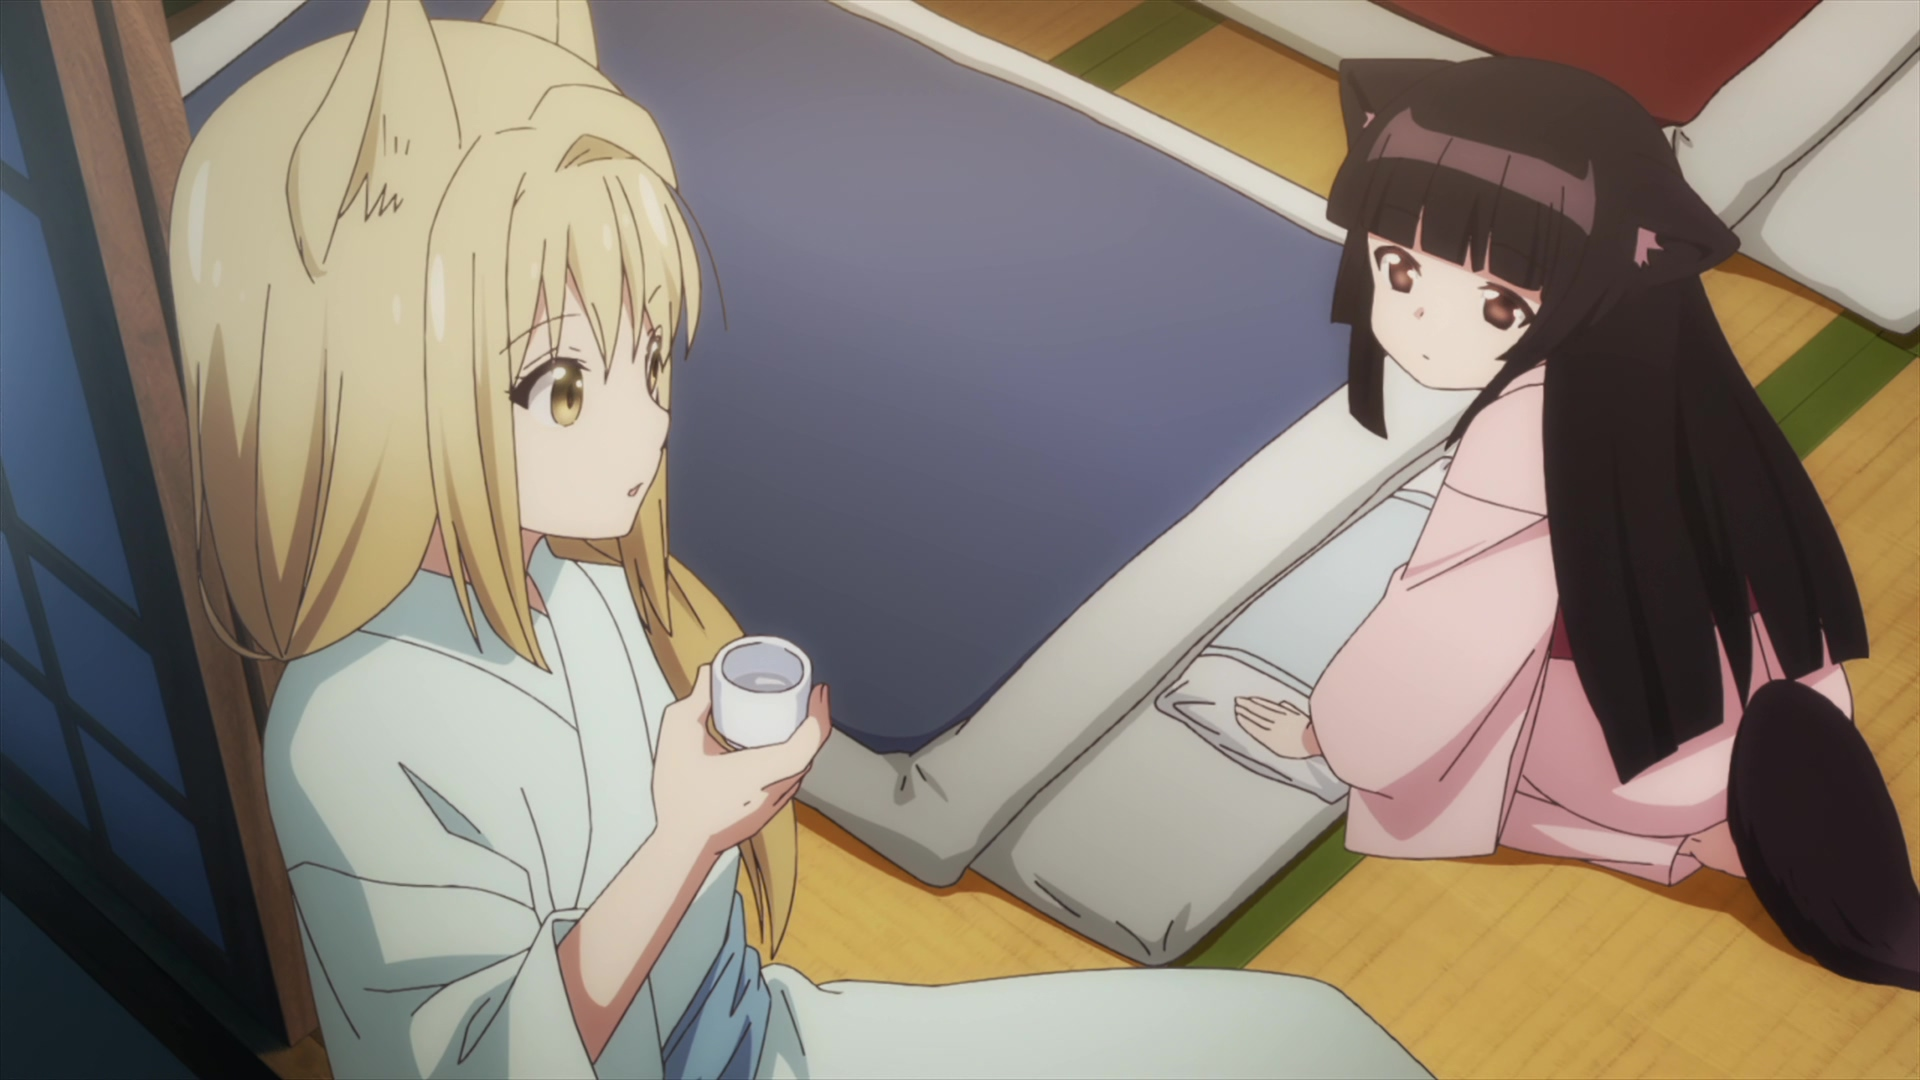桐: (169, 1, 1432, 1080)
樱: (1232, 55, 1920, 994)
